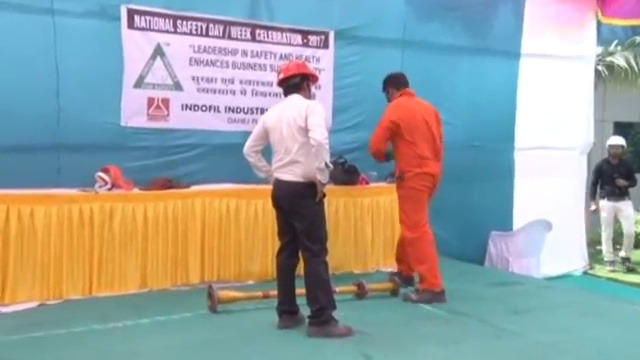helmet: (273, 59, 320, 89), (604, 134, 628, 152)
helmet_off: (379, 71, 409, 101)
helmet_on: (273, 59, 319, 104), (603, 135, 628, 163)
person: (242, 59, 356, 337), (370, 71, 449, 303), (589, 133, 636, 272)
